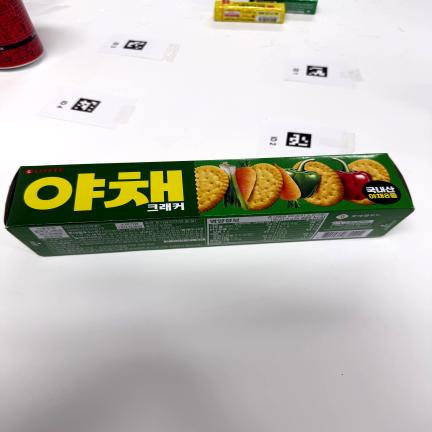cracker_vege: (5, 154, 413, 256)
